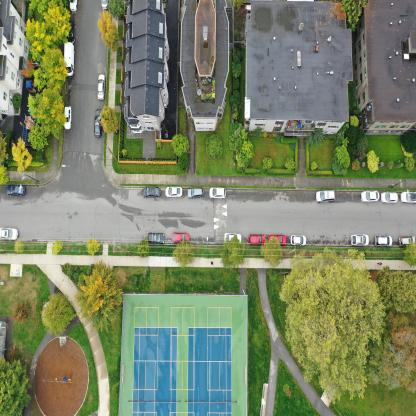Coniferous Tree: (378, 314, 416, 397), (82, 266, 124, 323), (0, 350, 32, 416), (376, 268, 416, 314), (40, 298, 76, 334), (341, 0, 366, 31), (347, 126, 366, 159), (100, 105, 117, 140), (171, 243, 197, 264), (14, 304, 30, 322), (0, 129, 8, 164), (178, 154, 190, 174), (138, 238, 150, 257), (0, 165, 9, 186), (352, 158, 360, 172)
Deciduous Tree: (283, 249, 373, 400), (26, 2, 70, 46), (31, 90, 63, 142), (34, 46, 66, 88), (98, 10, 120, 58), (221, 237, 245, 266), (11, 141, 31, 174), (84, 237, 101, 256), (403, 241, 416, 264), (368, 152, 378, 174), (50, 238, 64, 253), (13, 240, 25, 255), (350, 114, 359, 126)
